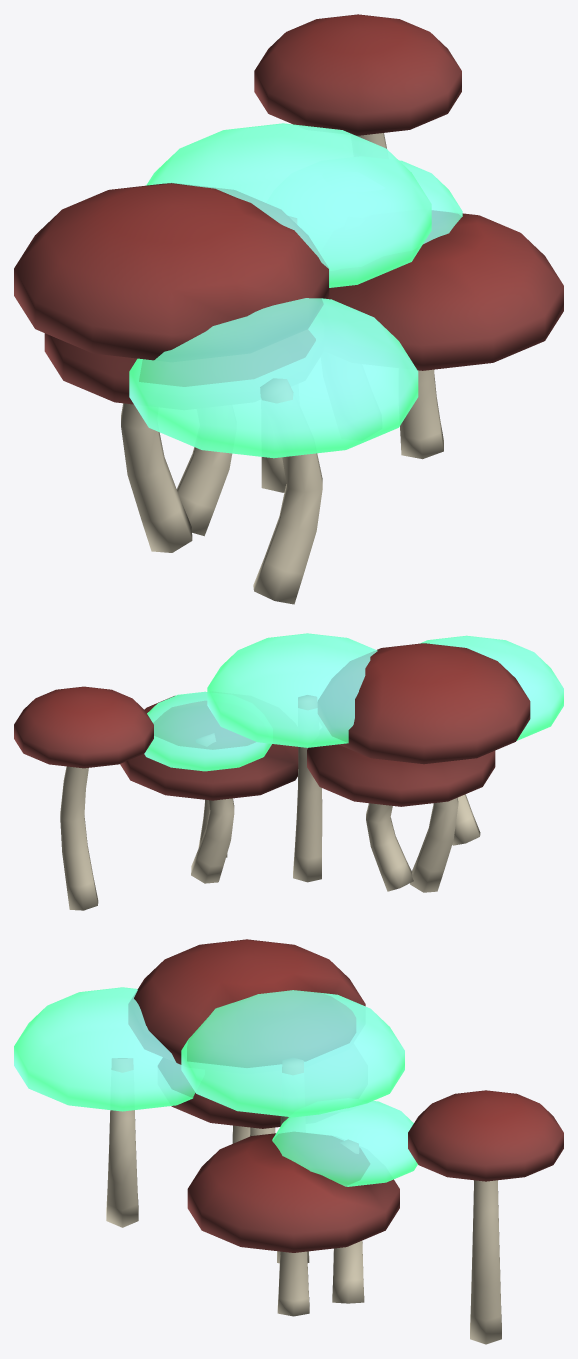
The model's file is kit_d_mushrooms.glb.
3 renders of one model, top to bottom at view 1: azimuth 30°, elevation 25°; view 2: azimuth 150°, elevation 25°; view 3: azimuth 270°, elevation 25°, orthographic. The views are drawn at different scales.
Parts seen in each view (by area): view 1: kit_d_mushrooms; view 2: kit_d_mushrooms; view 3: kit_d_mushrooms.
Part boxes in pixels (x1,y1,x2,y2): kit_d_mushrooms: (14,14,563,604); kit_d_mushrooms: (14,633,563,910); kit_d_mushrooms: (14,939,563,1344).
Size of the model in its own units: 0.321 by 0.1861 by 0.3557.
